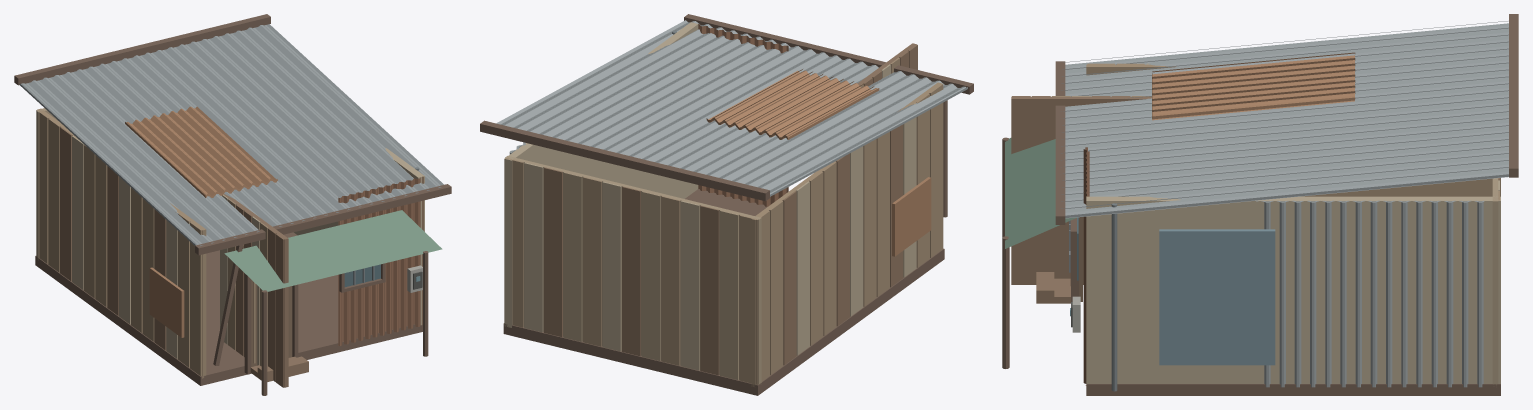
The model's file is SH03_Yero_Patchwork_House.glb.
3 renders of one model, left to right at view 1: azimuth 30°, elevation 25°; view 2: azimuth 150°, elevation 25°; view 3: azimuth 270°, elevation 25°, orthographic. The views are drawn at different scales.
Parts seen in each view (by area): view 1: 062_Lean_to_roof_sheet, 001_Timber_floor, 066_Entrance_tarp, 065_Lean_to_roof_patch, 043_Front_yero, 064_Lean_to_roof_back_fascia, 063_Lean_to_roof_front_fascia, 021_Left_wall_plank_05, 022_Left_wall_plank_06, 018_Left_wall_plank_02, 019_Left_wall_plank_03, 075_Side_sheet_patch (+28 smaller); view 2: 062_Lean_to_roof_sheet, 001_Timber_floor, 065_Lean_to_roof_patch, 031_Right_wall_backing, 002_Rear_wall_backing, 064_Lean_to_roof_back_fascia, 007_Rear_wall_plank_05, 005_Rear_wall_plank_03, 014_Rear_wall_plank_12, 010_Rear_wall_plank_08, 006_Rear_wall_plank_04, 008_Rear_wall_plank_06 (+26 smaller); view 3: 062_Lean_to_roof_sheet, 031_Right_wall_backing, 032_Right_yero_panel, 033_Right_plywood_patch, 065_Lean_to_roof_patch, 034_Front_left_backing, 066_Entrance_tarp, 001_Timber_floor, 016_Left_wall_backing, 063_Lean_to_roof_front_fascia, 064_Lean_to_roof_back_fascia, 002_Rear_wall_backing (+4 smaller).
Part boxes in pixels (x1,y1,x2,y2): 062_Lean_to_roof_sheet: (19,24,443,246); 001_Timber_floor: (35,232,422,385); 066_Entrance_tarp: (224,210,442,291); 065_Lean_to_roof_patch: (125,106,277,197); 043_Front_yero: (338,176,423,345); 064_Lean_to_roof_back_fascia: (14,14,270,85); 063_Lean_to_roof_front_fascia: (195,184,451,255); 021_Left_wall_plank_05: (83,144,95,298); 022_Left_wall_plank_06: (95,155,107,306); 018_Left_wall_plank_02: (48,118,60,272); 019_Left_wall_plank_03: (60,127,72,281); 075_Side_sheet_patch: (149,267,184,337); 062_Lean_to_roof_sheet: (496,20,967,196); 001_Timber_floor: (503,189,944,395); 065_Lean_to_roof_patch: (706,69,879,139); 031_Right_wall_backing: (504,22,698,327); 002_Rear_wall_backing: (505,156,761,384); 064_Lean_to_roof_back_fascia: (480,120,769,201); 007_Rear_wall_plank_05: (661,196,680,365); 005_Rear_wall_plank_03: (700,205,719,375); 014_Rear_wall_plank_12: (524,162,543,332); 010_Rear_wall_plank_08: (602,181,621,351); 006_Rear_wall_plank_04: (680,201,699,370); 008_Rear_wall_plank_06: (641,191,660,360); 062_Lean_to_roof_sheet: (1061,21,1508,218); 031_Right_wall_backing: (1086,196,1500,383); 032_Right_yero_panel: (1256,200,1484,387); 033_Right_plywood_patch: (1159,229,1275,365); 065_Lean_to_roof_patch: (1152,52,1355,120); 034_Front_left_backing: (1011,96,1151,284); 066_Entrance_tarp: (1005,138,1077,248); 001_Timber_floor: (1086,384,1500,395); 016_Left_wall_backing: (1086,64,1500,196); 063_Lean_to_roof_front_fascia: (1055,61,1065,224); 064_Lean_to_roof_back_fascia: (1509,14,1518,177); 002_Rear_wall_backing: (1492,178,1498,385).
Size of the model in its own units: 4.55 by 3.23 by 6.41.
